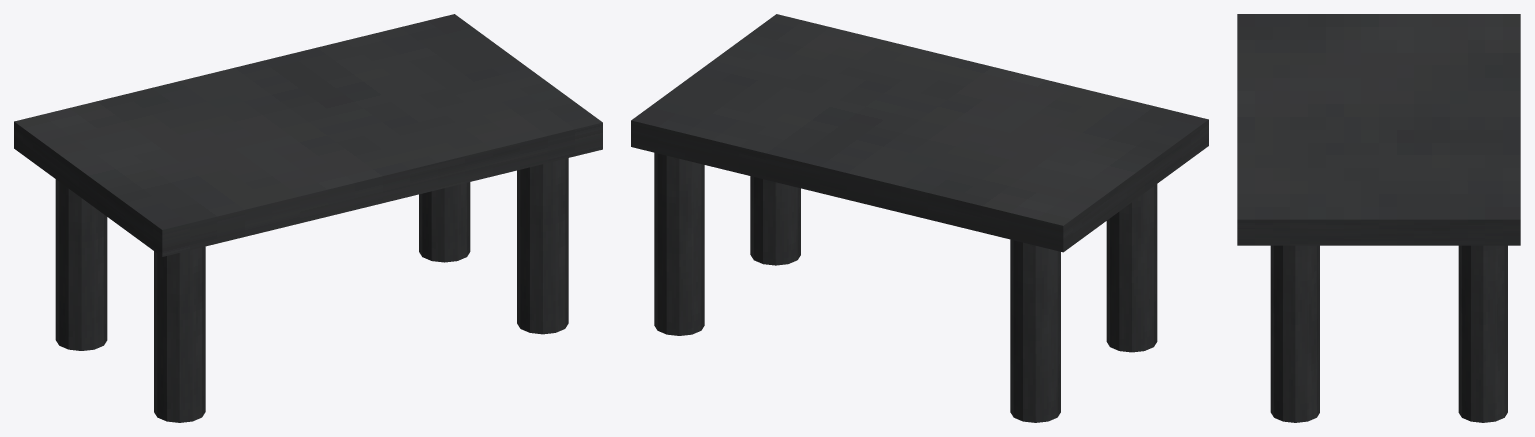
File: Table.glb
The picture shows the model from 3 angles, left to right: view 1: azimuth 30°, elevation 25°; view 2: azimuth 150°, elevation 25°; view 3: azimuth 270°, elevation 25°; orthographic projection. The views are drawn at different scales.
Visible parts, largest first — view 1: Table-col; view 2: Table-col; view 3: Table-col.
Part boxes in pixels (<box>): Table-col: <box>14,14,602,422</box>; Table-col: <box>631,14,1208,422</box>; Table-col: <box>1237,14,1520,422</box>.
Bounding box in the file's own units: 7.33 × 3.44 × 4.27.
1 material, 1 textured.
